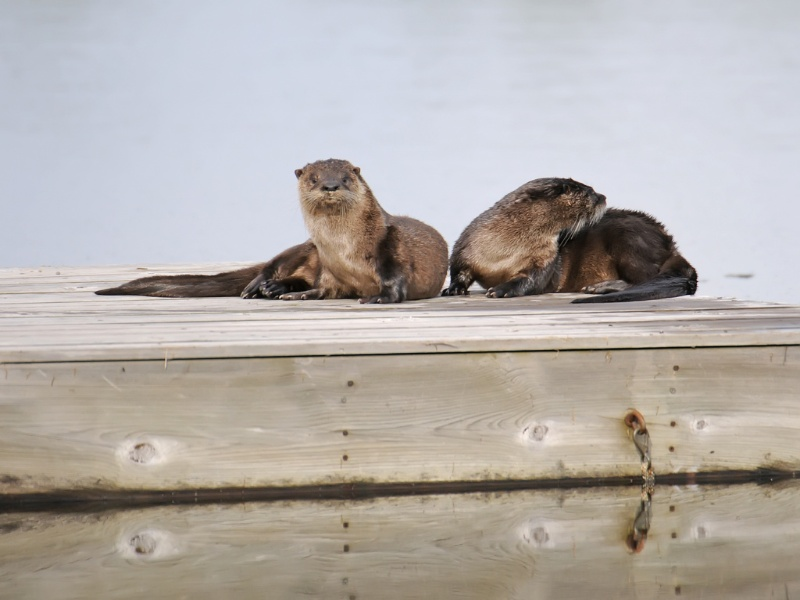minkish: (90, 156, 450, 308), (442, 174, 698, 304)
